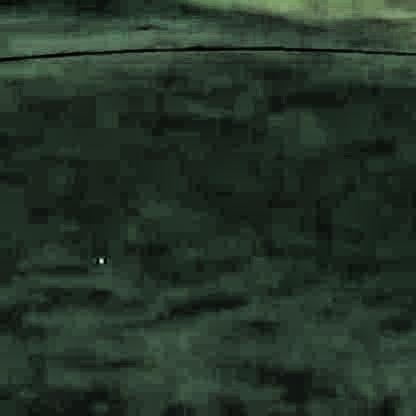golfball: (94, 256, 104, 263)
